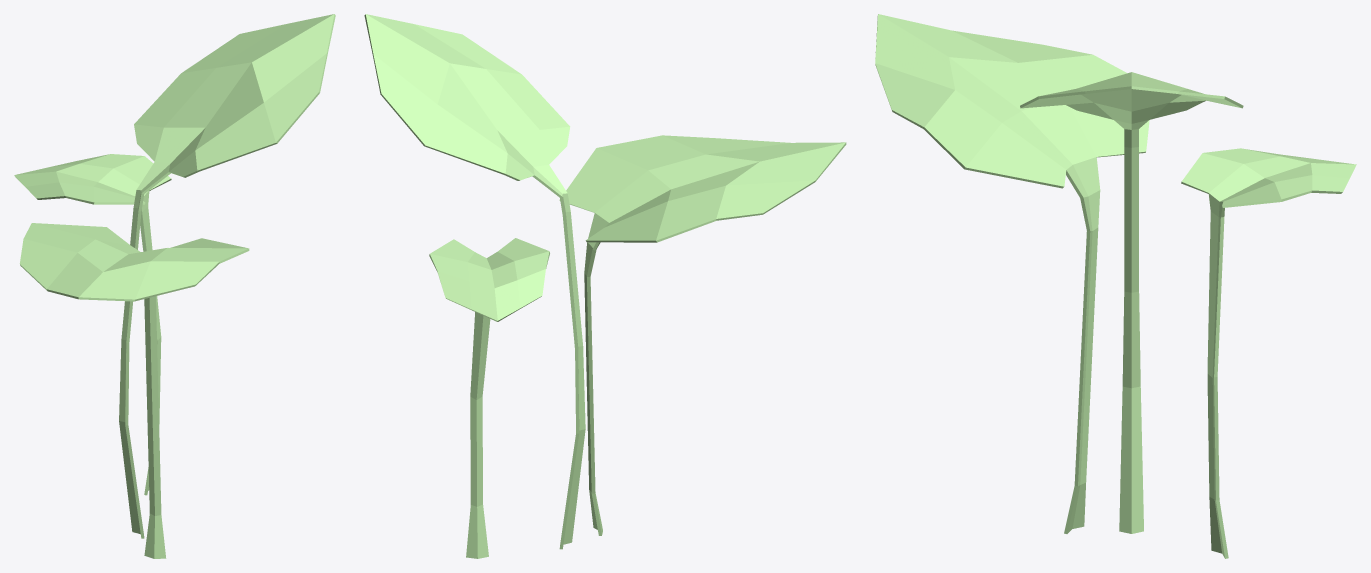
File: st3_plant14.fbx
The picture shows the model from 3 angles, left to right: view 1: azimuth 30°, elevation 25°; view 2: azimuth 150°, elevation 25°; view 3: azimuth 270°, elevation 25°; orthographic projection. The views are drawn at different scales.
Visible parts, largest first — view 1: stage3_map_object_leaf_2; view 2: stage3_map_object_leaf_2; view 3: stage3_map_object_leaf_2.
Part boxes in pixels (left/top/right/bottom): stage3_map_object_leaf_2: left=14, top=14, right=335, bottom=558; stage3_map_object_leaf_2: left=364, top=14, right=846, bottom=558; stage3_map_object_leaf_2: left=875, top=14, right=1356, bottom=558.
Bounding box in the file's own units: 444 × 552 × 429.
